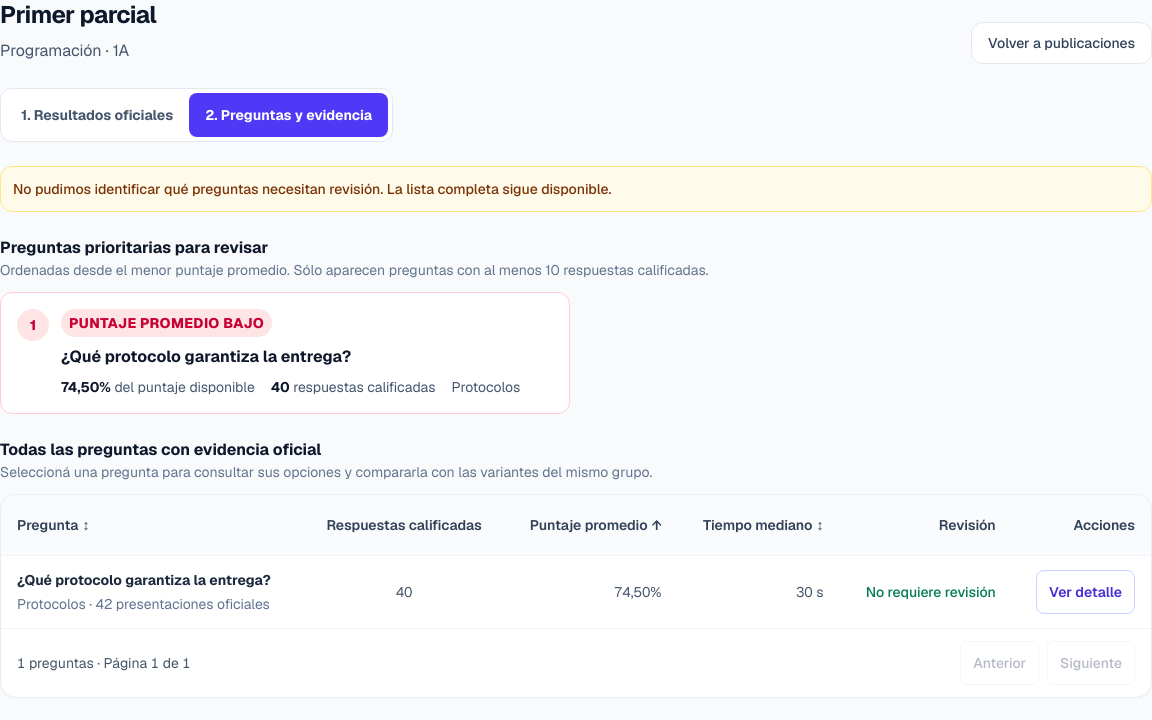
Test case: reportes docentes › carga las variantes del grupo al abrir el detalle desde analisis
Click the button "Ver detalle". click: click(1086, 592)
box: [1036,570,1135,614]
(page scrolled)
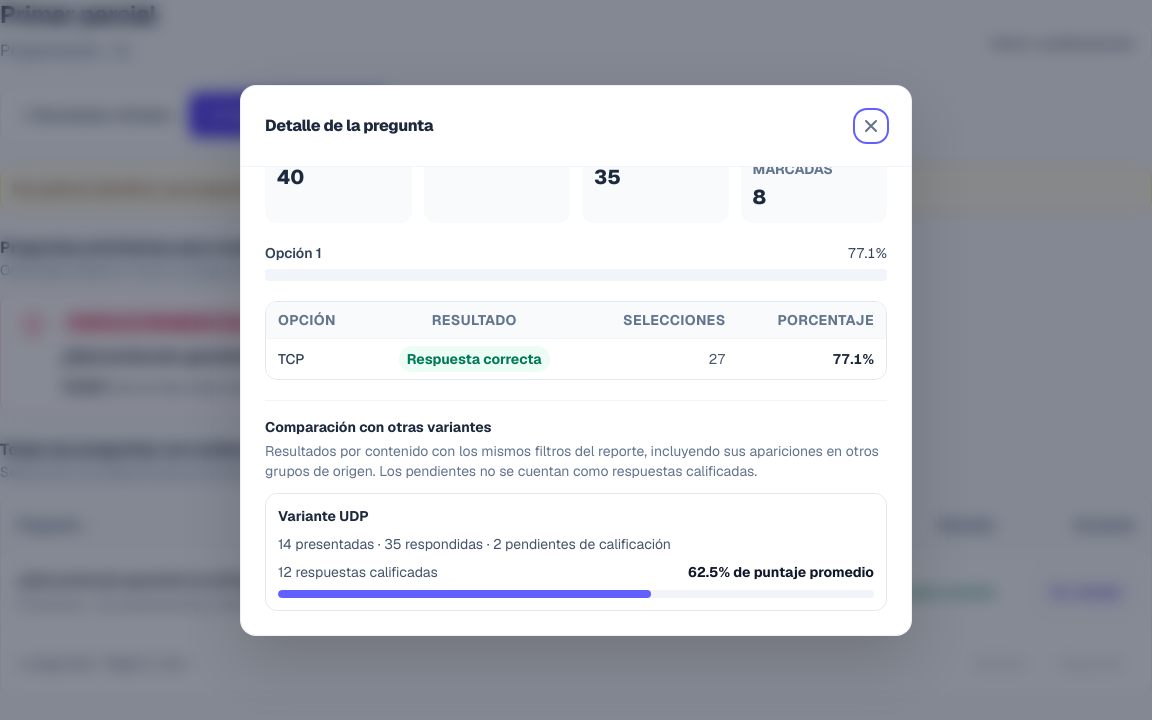
Check: the text "Variante UDP" is shown, box [278,506,369,524]
Check: the text "12 respuestas calificadas" is shown, box [278,562,438,582]
Check: the text "62.5% de puntaje promedio" is shown, box [688,562,874,582]
